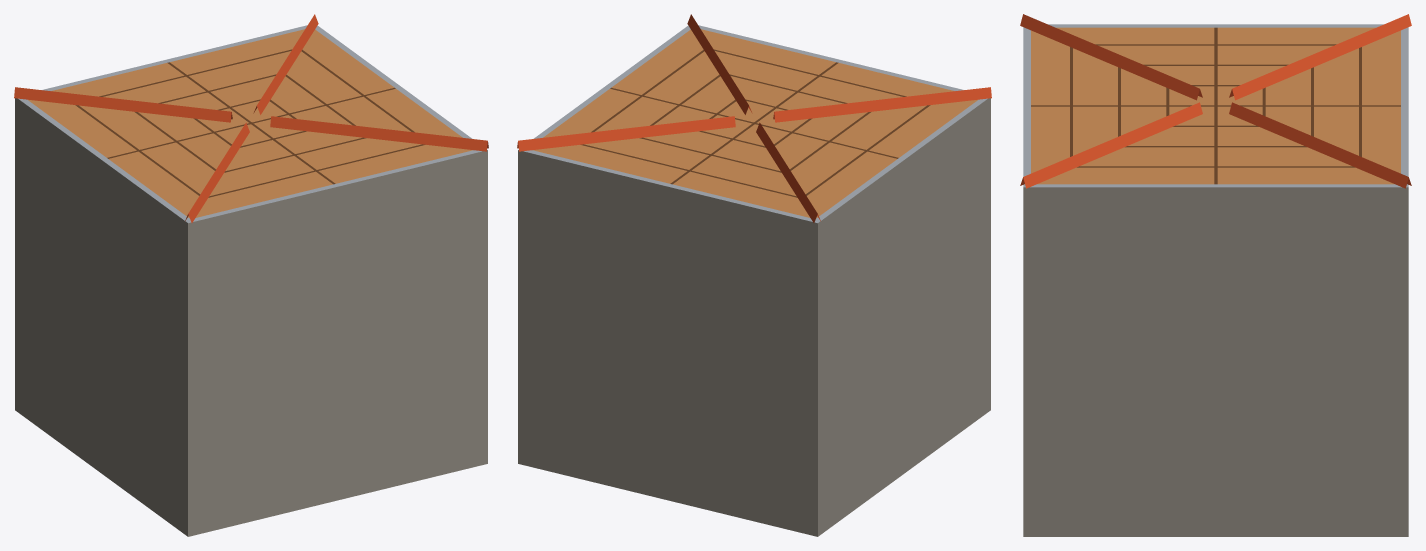
The model's file is kit-hip-hi.glb.
3 views of the same model, side by side, from view 1: azimuth 30°, elevation 25°; view 2: azimuth 150°, elevation 25°; view 3: azimuth 270°, elevation 25° (orthographic). The views are drawn at different scales.
Parts seen in each view (by area): view 1: hip.001; view 2: hip.001; view 3: hip.001.
Boxes of the visible parts, box(x1,y1,x2,y2) form: hip.001: box(14, 14, 488, 536); hip.001: box(517, 14, 991, 536); hip.001: box(1020, 14, 1411, 536).
Size of the model in its own units: 1.02 by 1.03 by 1.02.
